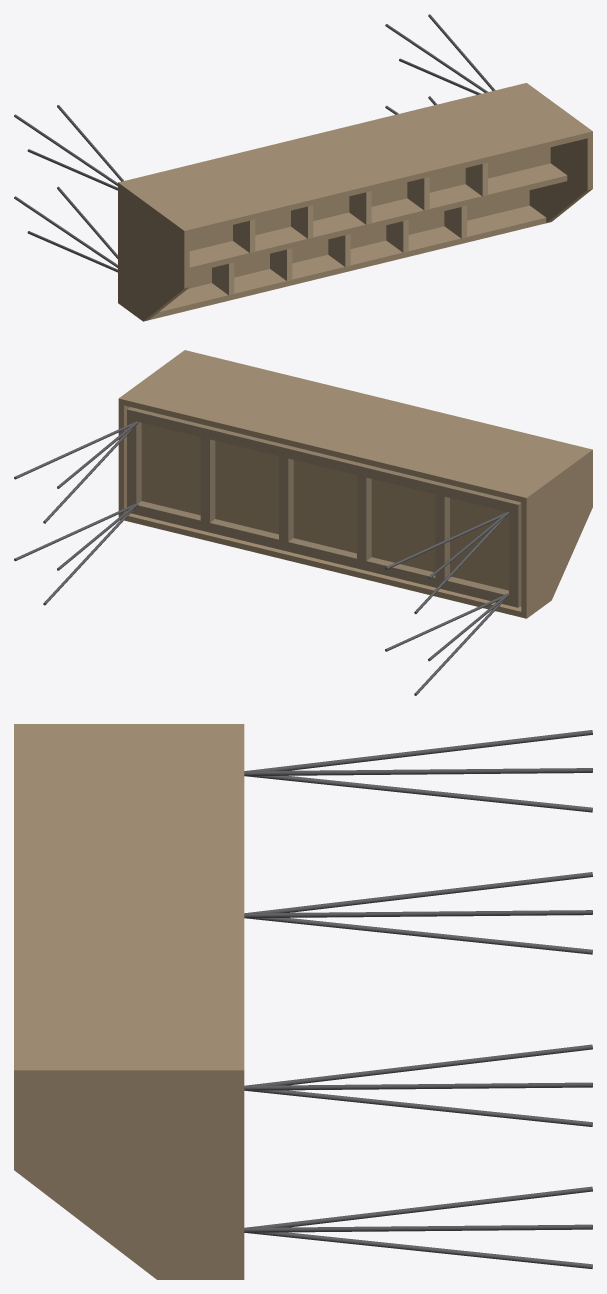
The model's file is vinyl_record_storage.glb.
3 renders of one model, top to bottom at view 1: azimuth 30°, elevation 25°; view 2: azimuth 150°, elevation 25°; view 3: azimuth 270°, elevation 25°, orthographic. The views are drawn at different scales.
Parts seen in each view (by area): view 1: back, side_left, front, shelf_divider, back_shelf_bottom, bottom, side_right, leg_back_left, leg_front_left, leg_back_right, back_divider_1, back_divider_2 (+8 smaller); view 2: back, bottom, side_left, frame_front, frame_back, front, frame_left, frame_right, frame_cross_4, side_right, frame_cross_2, frame_cross_3 (+5 smaller); view 3: back, side_right, leg_front_left, leg_back_left, leg_front_right, leg_back_right, side_left.
Boxes of the visible parts, x1,y1,x2,y2 form: back: (124,84,587,235); side_left: (118,181,189,321); front: (149,205,546,319); shelf_divider: (189,163,567,272); back_shelf_bottom: (189,147,550,251); bottom: (188,190,529,288); side_right: (521,83,592,223); leg_back_left: (14,105,123,190); leg_front_left: (14,186,117,272); leg_back_right: (385,14,495,94); back_divider_1: (233,219,255,253); back_divider_2: (291,205,313,238); back: (124,351,586,502); bottom: (129,407,521,606); side_left: (521,448,592,618); frame_front: (136,501,508,605); frame_back: (136,409,511,511); front: (124,513,521,617); frame_left: (509,500,521,607); frame_right: (127,407,141,514); frame_cross_4: (200,437,215,522); side_right: (118,350,189,517); frame_cross_2: (357,475,371,560); frame_cross_3: (279,456,293,541); back: (14,728,244,1065); side_right: (14,1065,244,1279); leg_front_left: (244,872,592,954); leg_back_left: (244,730,592,812); leg_front_right: (244,1186,592,1268); leg_back_right: (244,1044,592,1126); side_left: (14,724,244,728).
Bounding box in the file's own units: 67.15 × 19.6 × 46.53.
